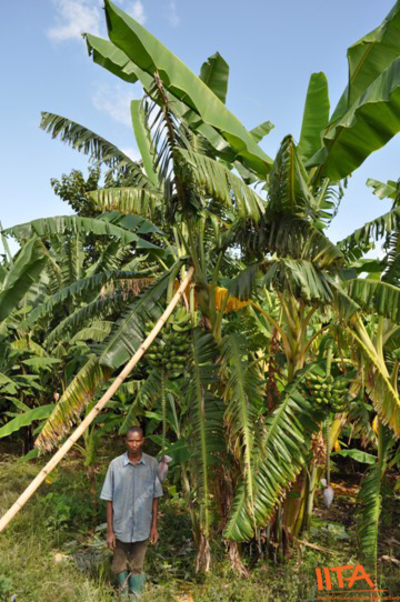bananaHand: (141, 301, 200, 374), (302, 370, 353, 412)
